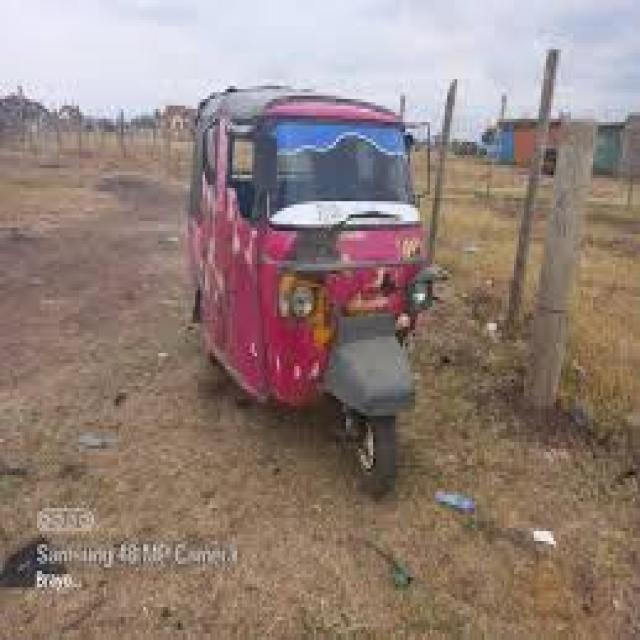tuktuk: (155, 31, 471, 532)
